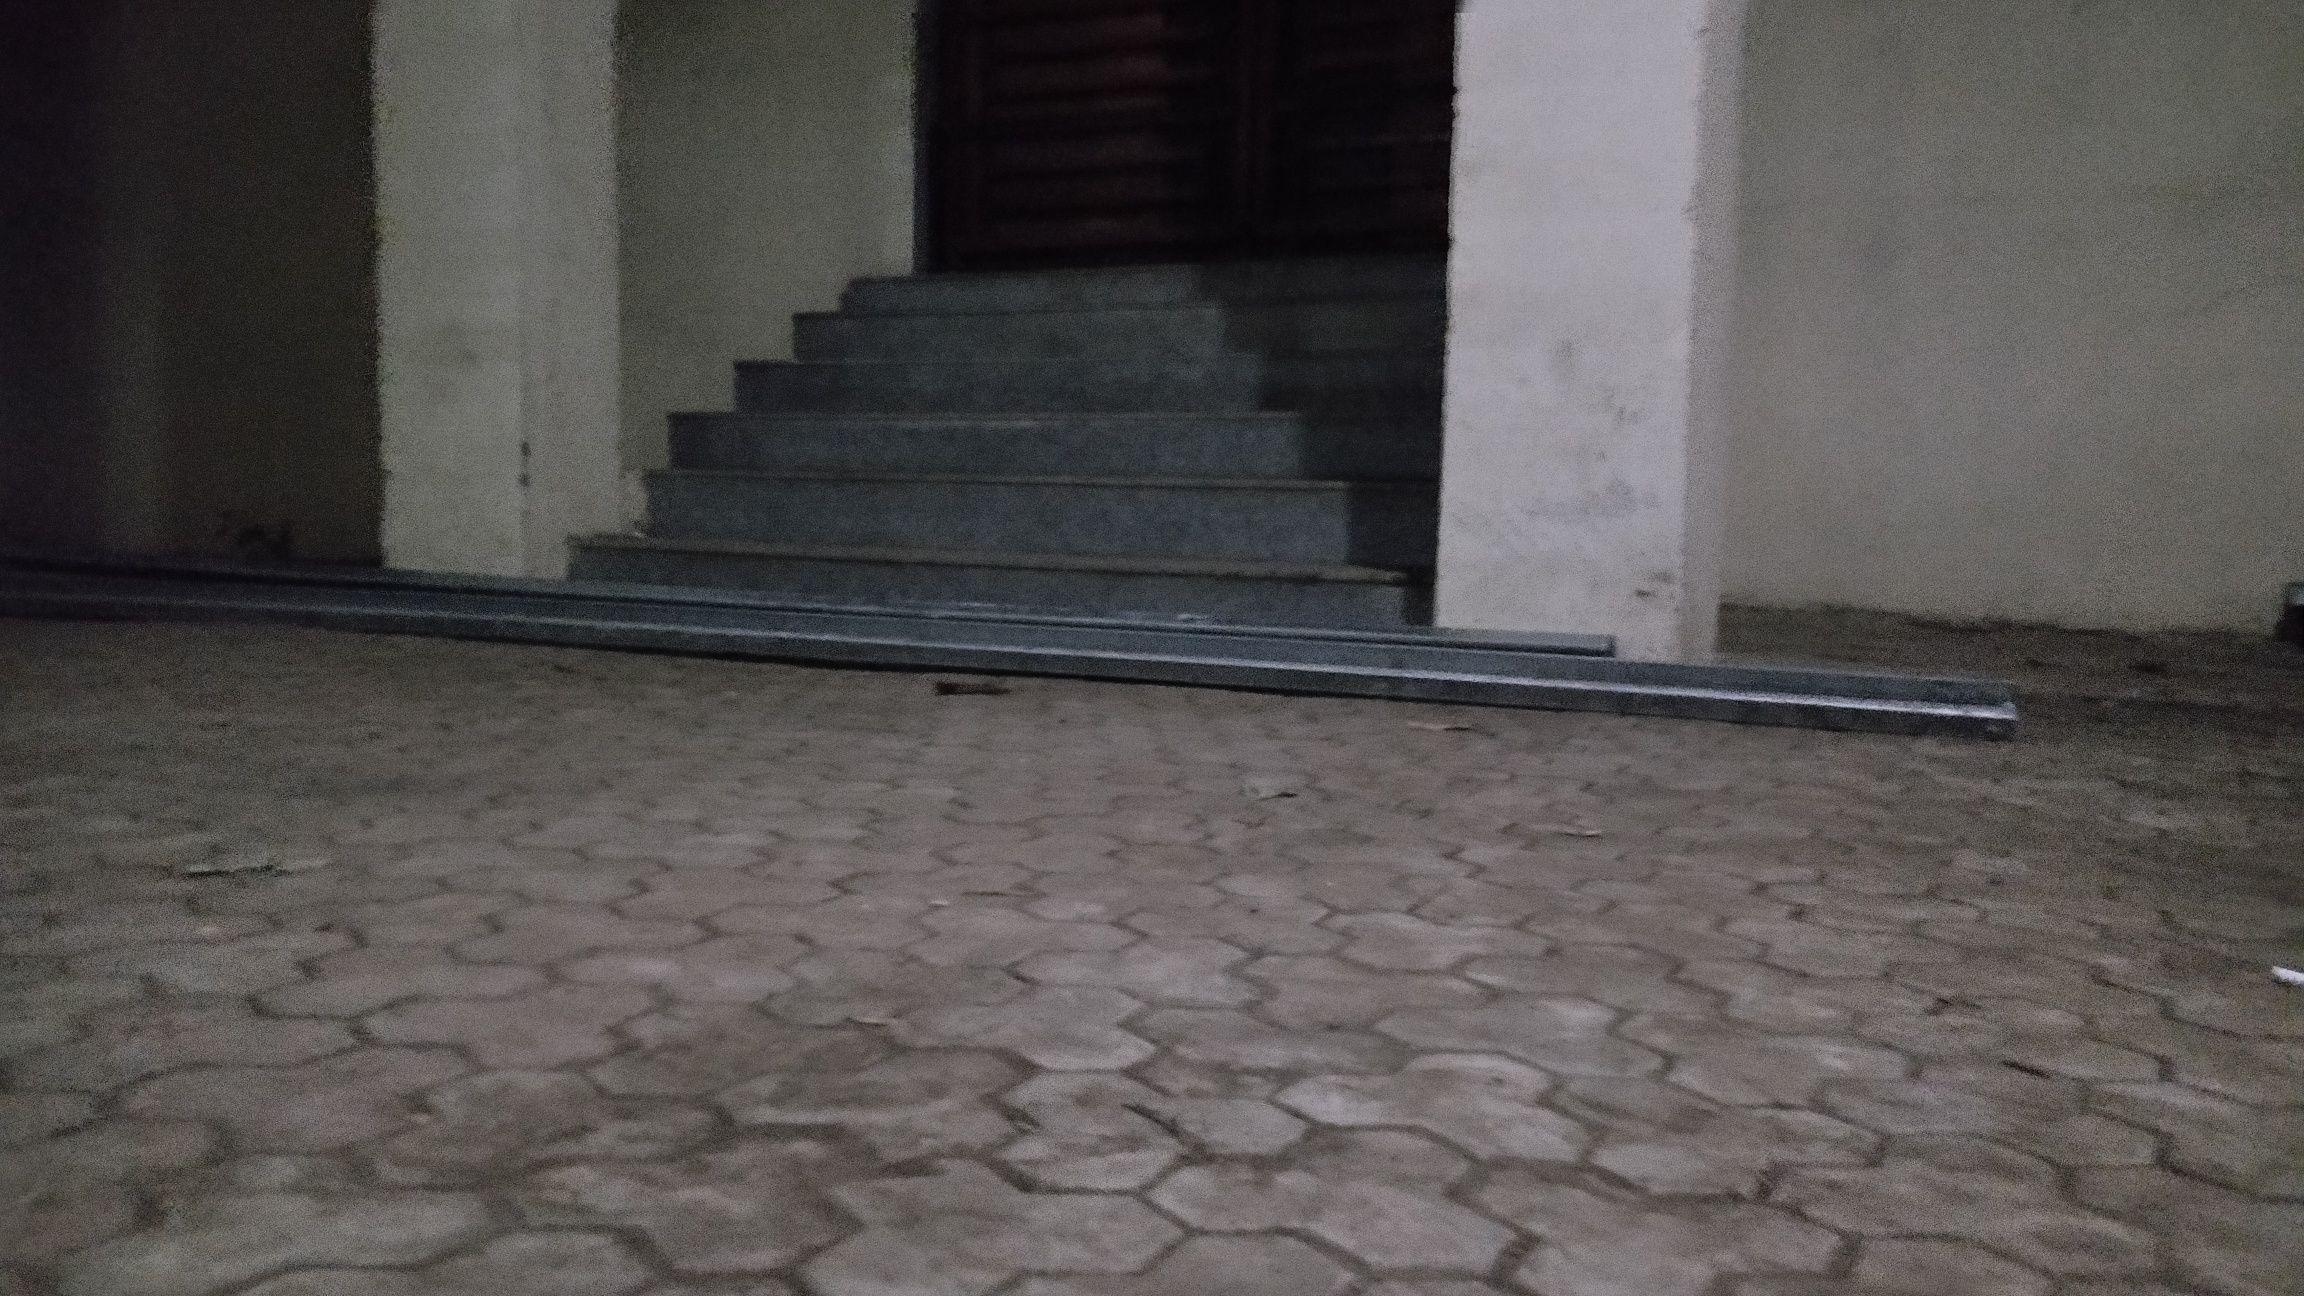stairs_up: (544, 241, 1461, 677)
